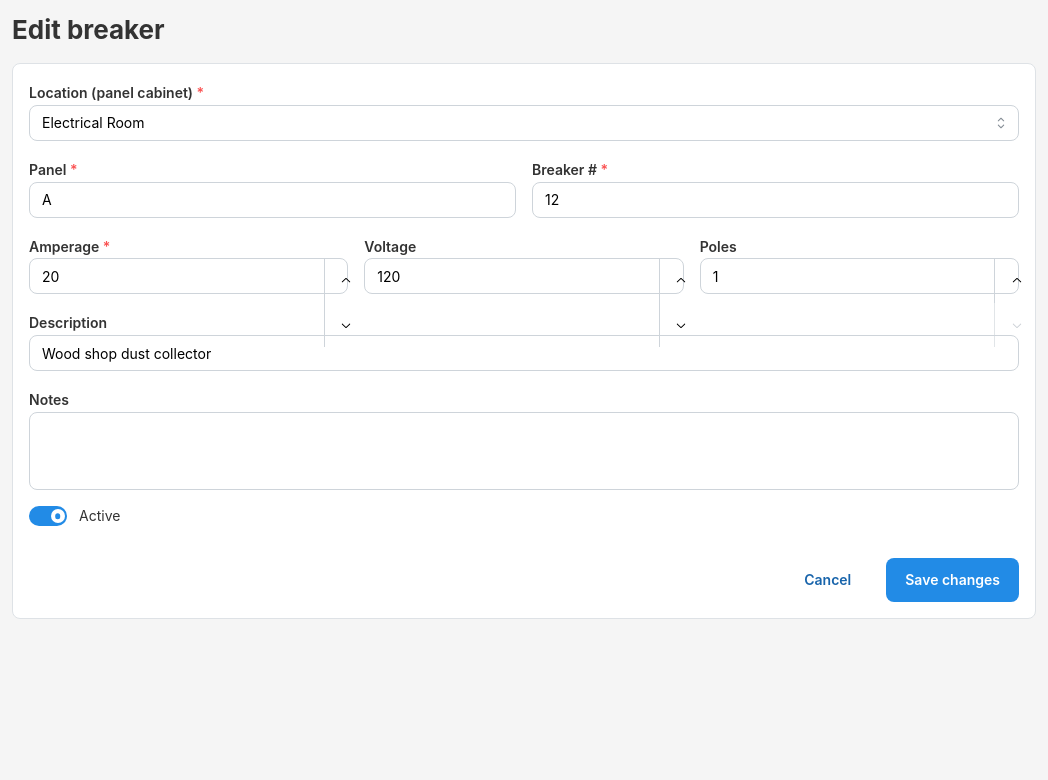
Test: BreakerFormPage resilience states › surfaces a save-failure message when the request errors (AC-19)
Expected: the field showing "A" is shown, [29, 182, 516, 218]
What coordinates should you click on to do the following:
click the button "Save changes"
I would click on:
 (953, 580)
Its box is [886, 558, 1019, 602].
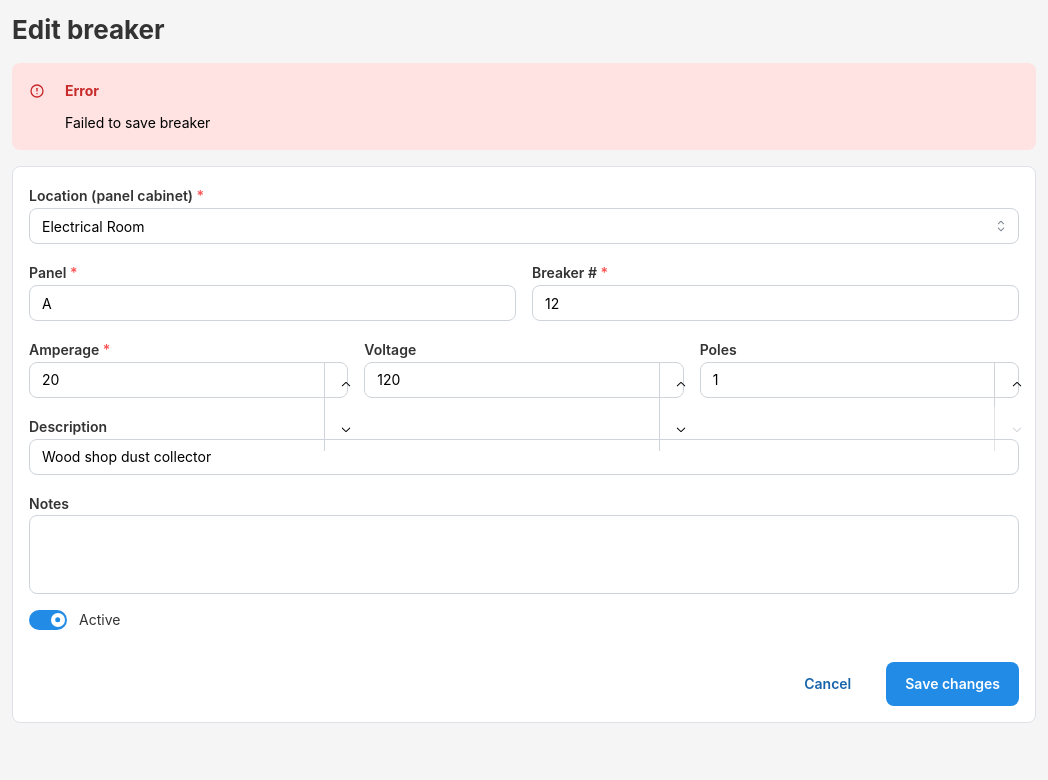
Result: the text "Failed to save breaker" is shown at [65, 114, 210, 131]
